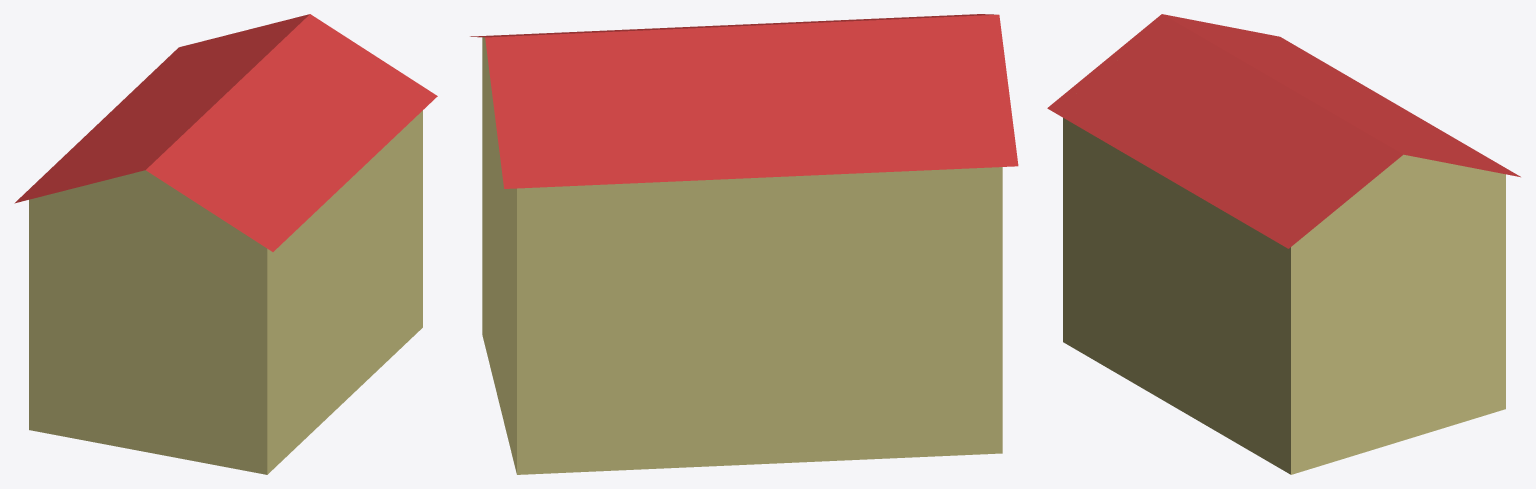
3 views of the same model, side by side, from view 1: azimuth 30°, elevation 25°; view 2: azimuth 150°, elevation 25°; view 3: azimuth 270°, elevation 25° (orthographic). The views are drawn at different scales.
Size of the model in its own units: 10.95 by 10.36 by 7.02.
